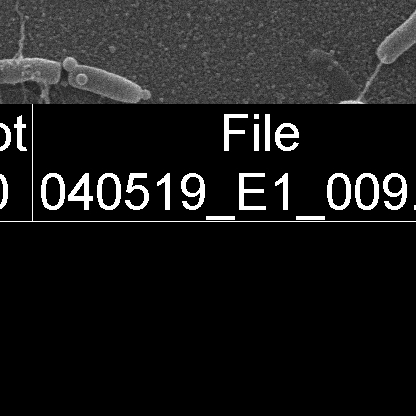cell2surface: (16, 0, 69, 56), (358, 61, 381, 100)
regular: (66, 67, 147, 102), (378, 0, 416, 61), (0, 59, 63, 83)
